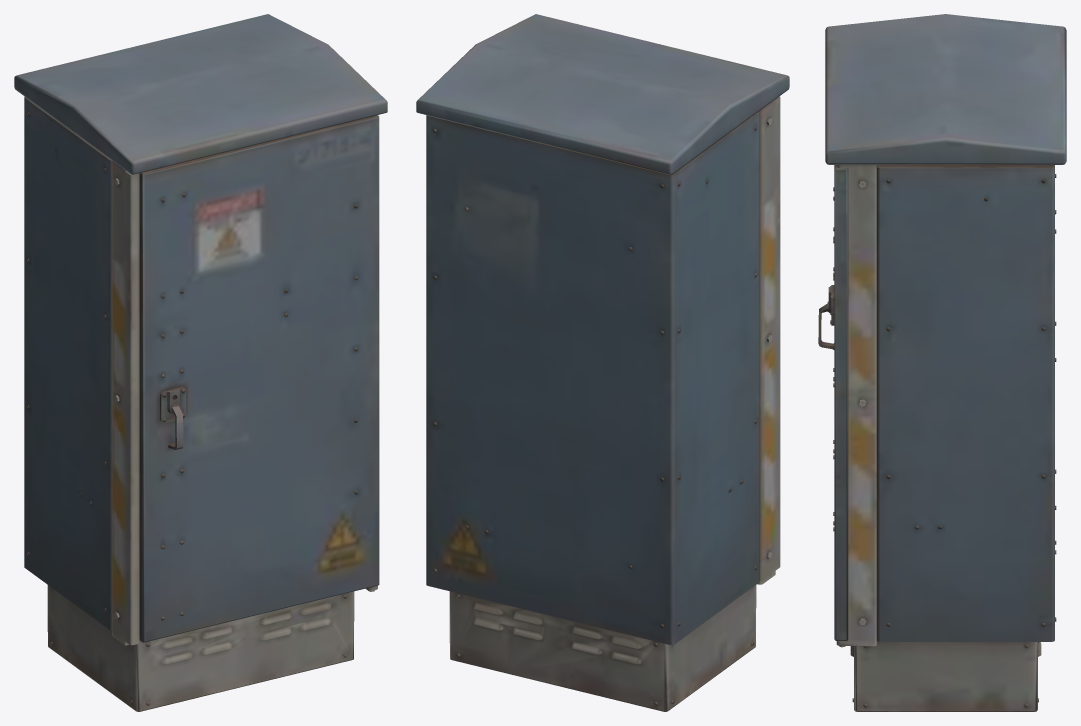
File: p_utility_box_01.glb
The picture shows the model from 3 angles, left to right: view 1: azimuth 30°, elevation 25°; view 2: azimuth 150°, elevation 25°; view 3: azimuth 270°, elevation 25°; orthographic projection.
Parts seen in each view (by area): view 1: utility_box_01_box; view 2: utility_box_01_box; view 3: utility_box_01_box.
Part boxes in pixels (x1=…): utility_box_01_box: x1=14, y1=14, x2=387, y2=711; utility_box_01_box: x1=416, y1=14, x2=789, y2=711; utility_box_01_box: x1=818, y1=14, x2=1066, y2=711.
Size of the model in its own units: 0.52 by 1.12 by 0.4319.
Materials: 1 (1 with a texture image).
